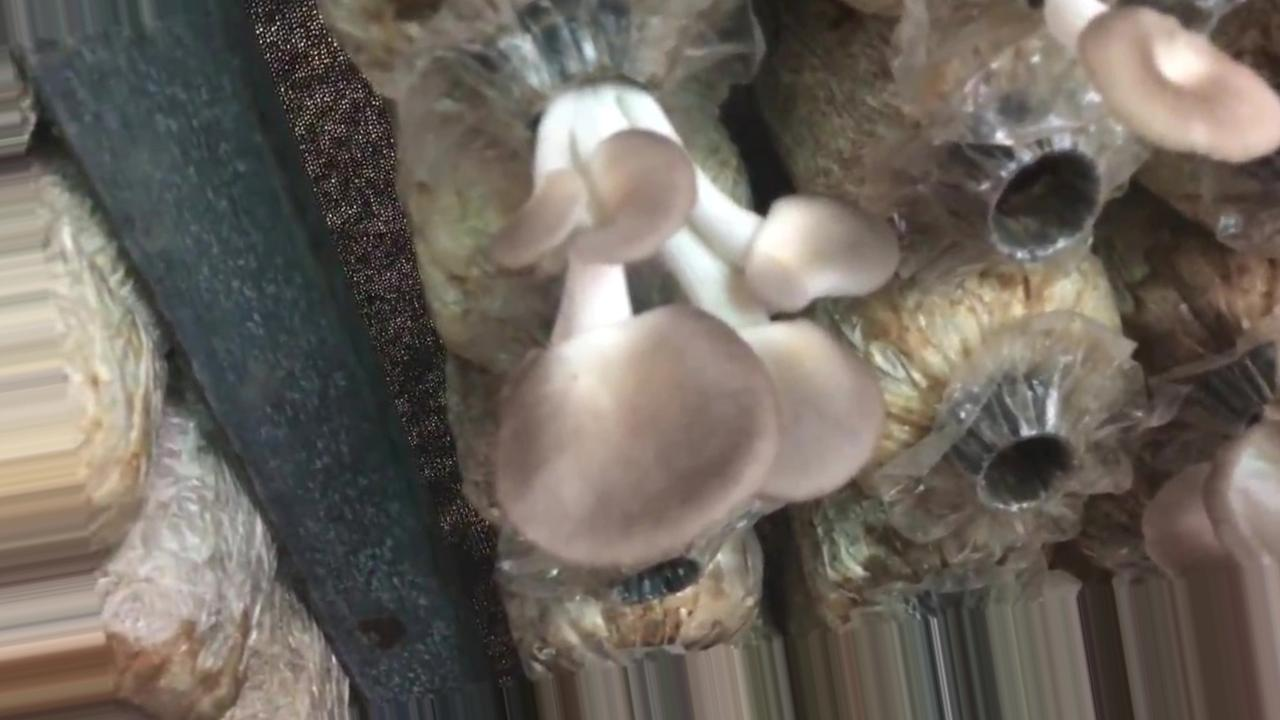nam: (500, 38, 903, 566), (1034, 1, 1276, 162)
